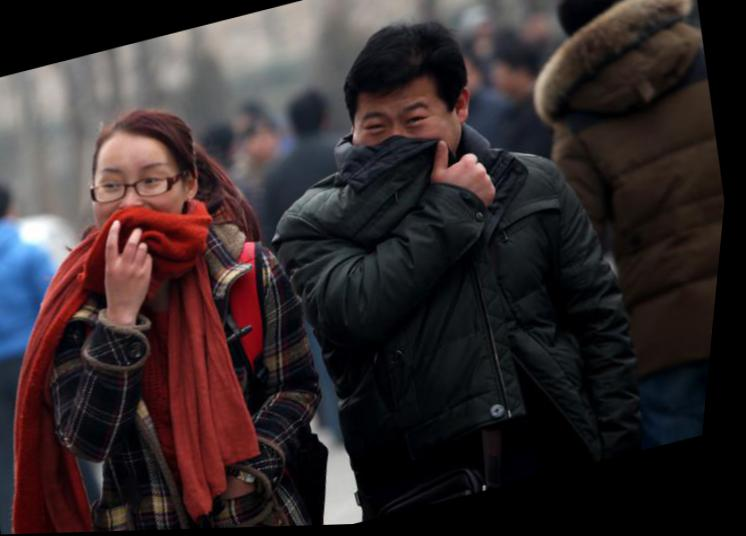NONE: (348, 85, 469, 199)
WRONG: (90, 150, 192, 247)
